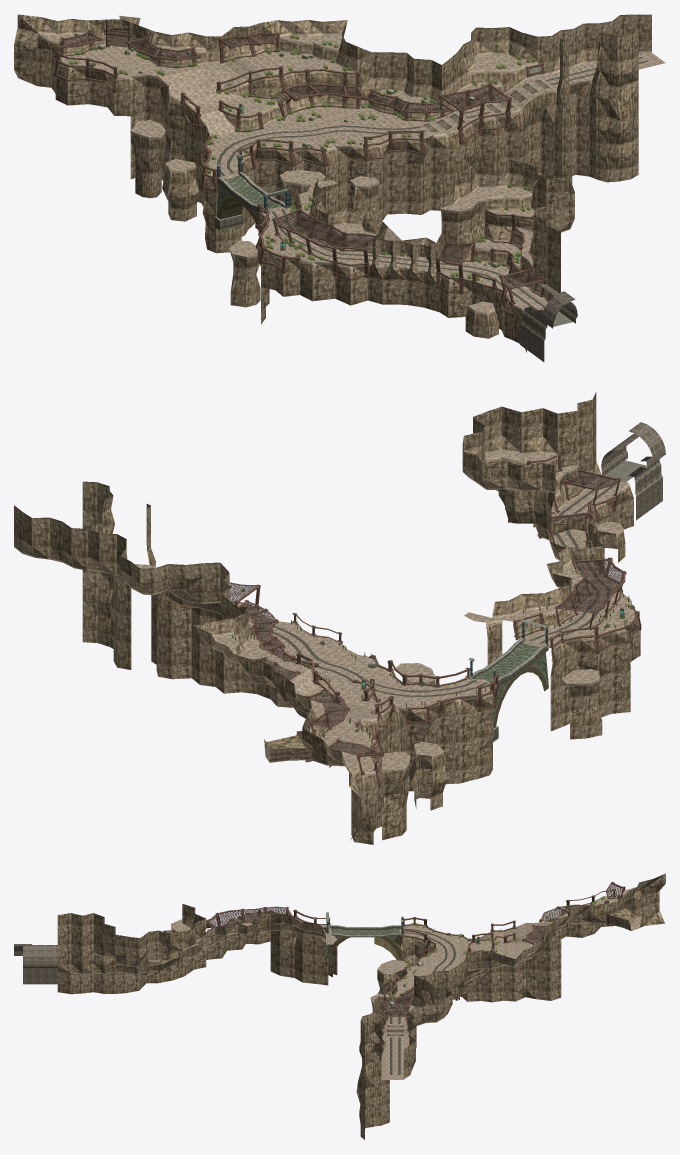
Rendered from North7.obj.
The picture shows the model from 3 angles, top to bottom: view 1: azimuth 30°, elevation 25°; view 2: azimuth 150°, elevation 25°; view 3: azimuth 270°, elevation 25°; orthographic projection. The views are drawn at different scales.
Size of the model in its own units: 158 by 48 by 236.
Materials: 26 (26 with a texture image).
